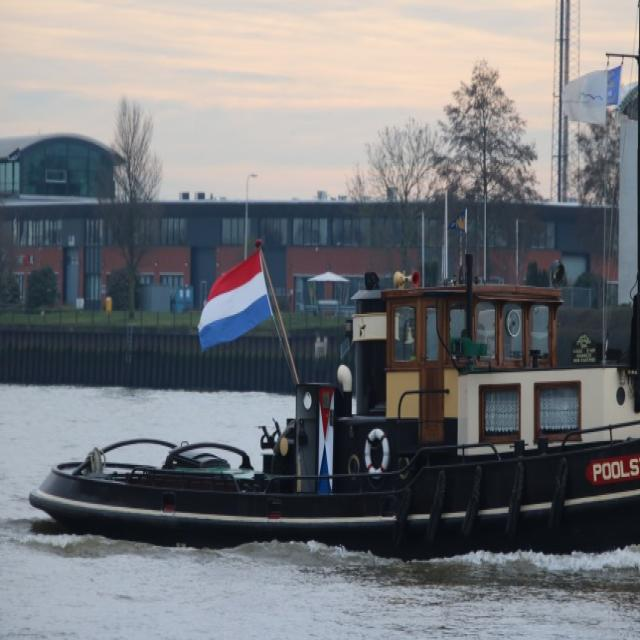tugboat: (26, 233, 640, 578)
